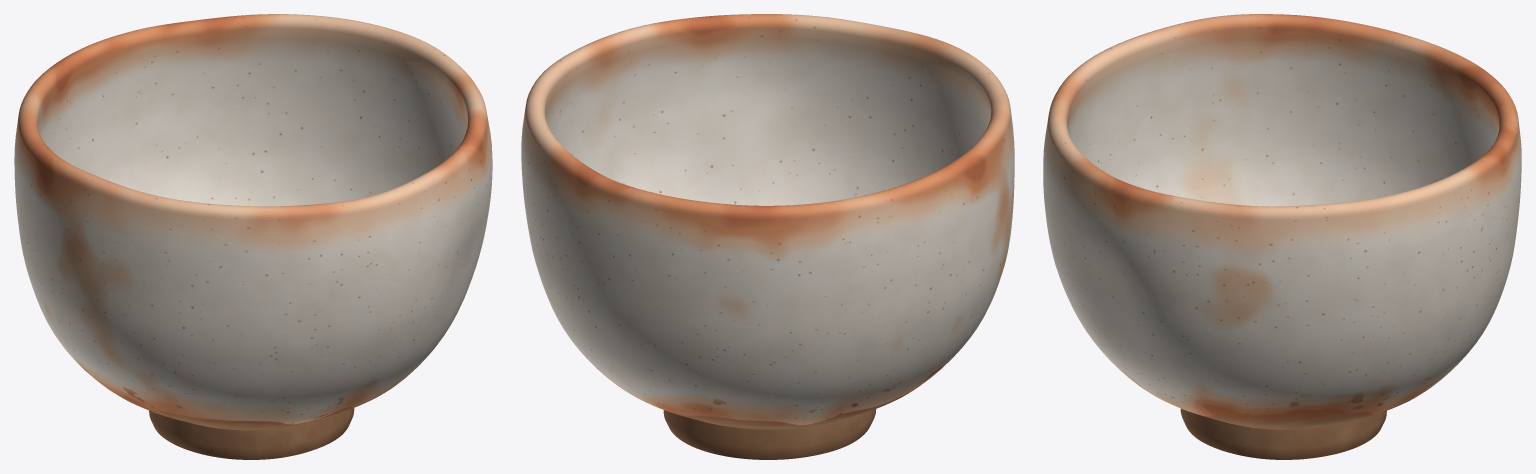
File: bowl.glb
3 views of the same model, side by side, from view 1: azimuth 30°, elevation 25°; view 2: azimuth 150°, elevation 25°; view 3: azimuth 270°, elevation 25° (orthographic).
Parts seen in each view (by area): view 1: chawan; view 2: chawan; view 3: chawan.
Part boxes in pixels (<box>): chawan: <box>14,14,492,459</box>; chawan: <box>521,14,1014,459</box>; chawan: <box>1043,14,1521,459</box>.
Size of the model in its own units: 0.1228 by 0.0871 by 0.122.
Materials: 1 (1 with a texture image).
